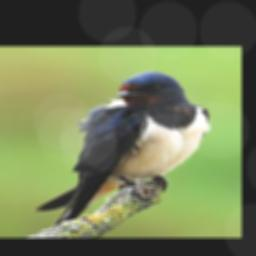Swallow: (33, 70, 212, 228)
